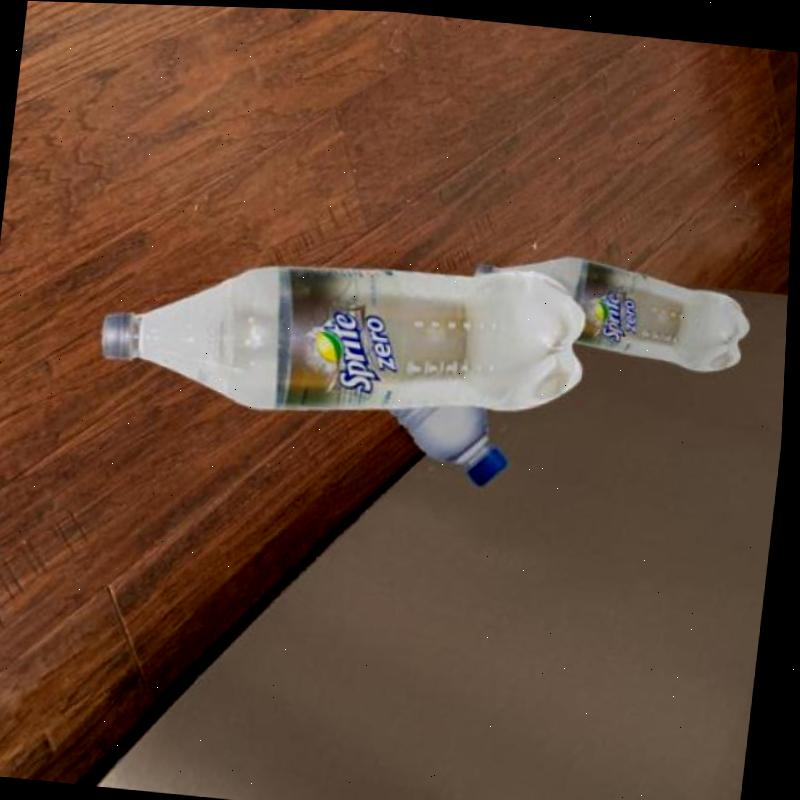botella: (96, 223, 595, 440), (467, 241, 759, 371), (381, 390, 518, 484)
